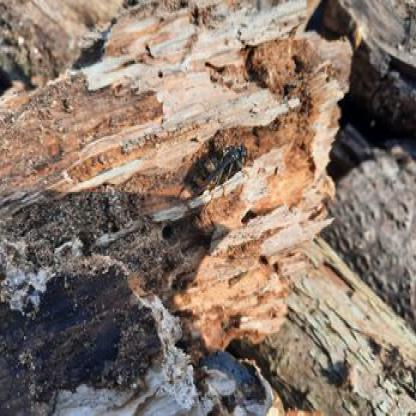Asian Hornet: (180, 138, 250, 200)
